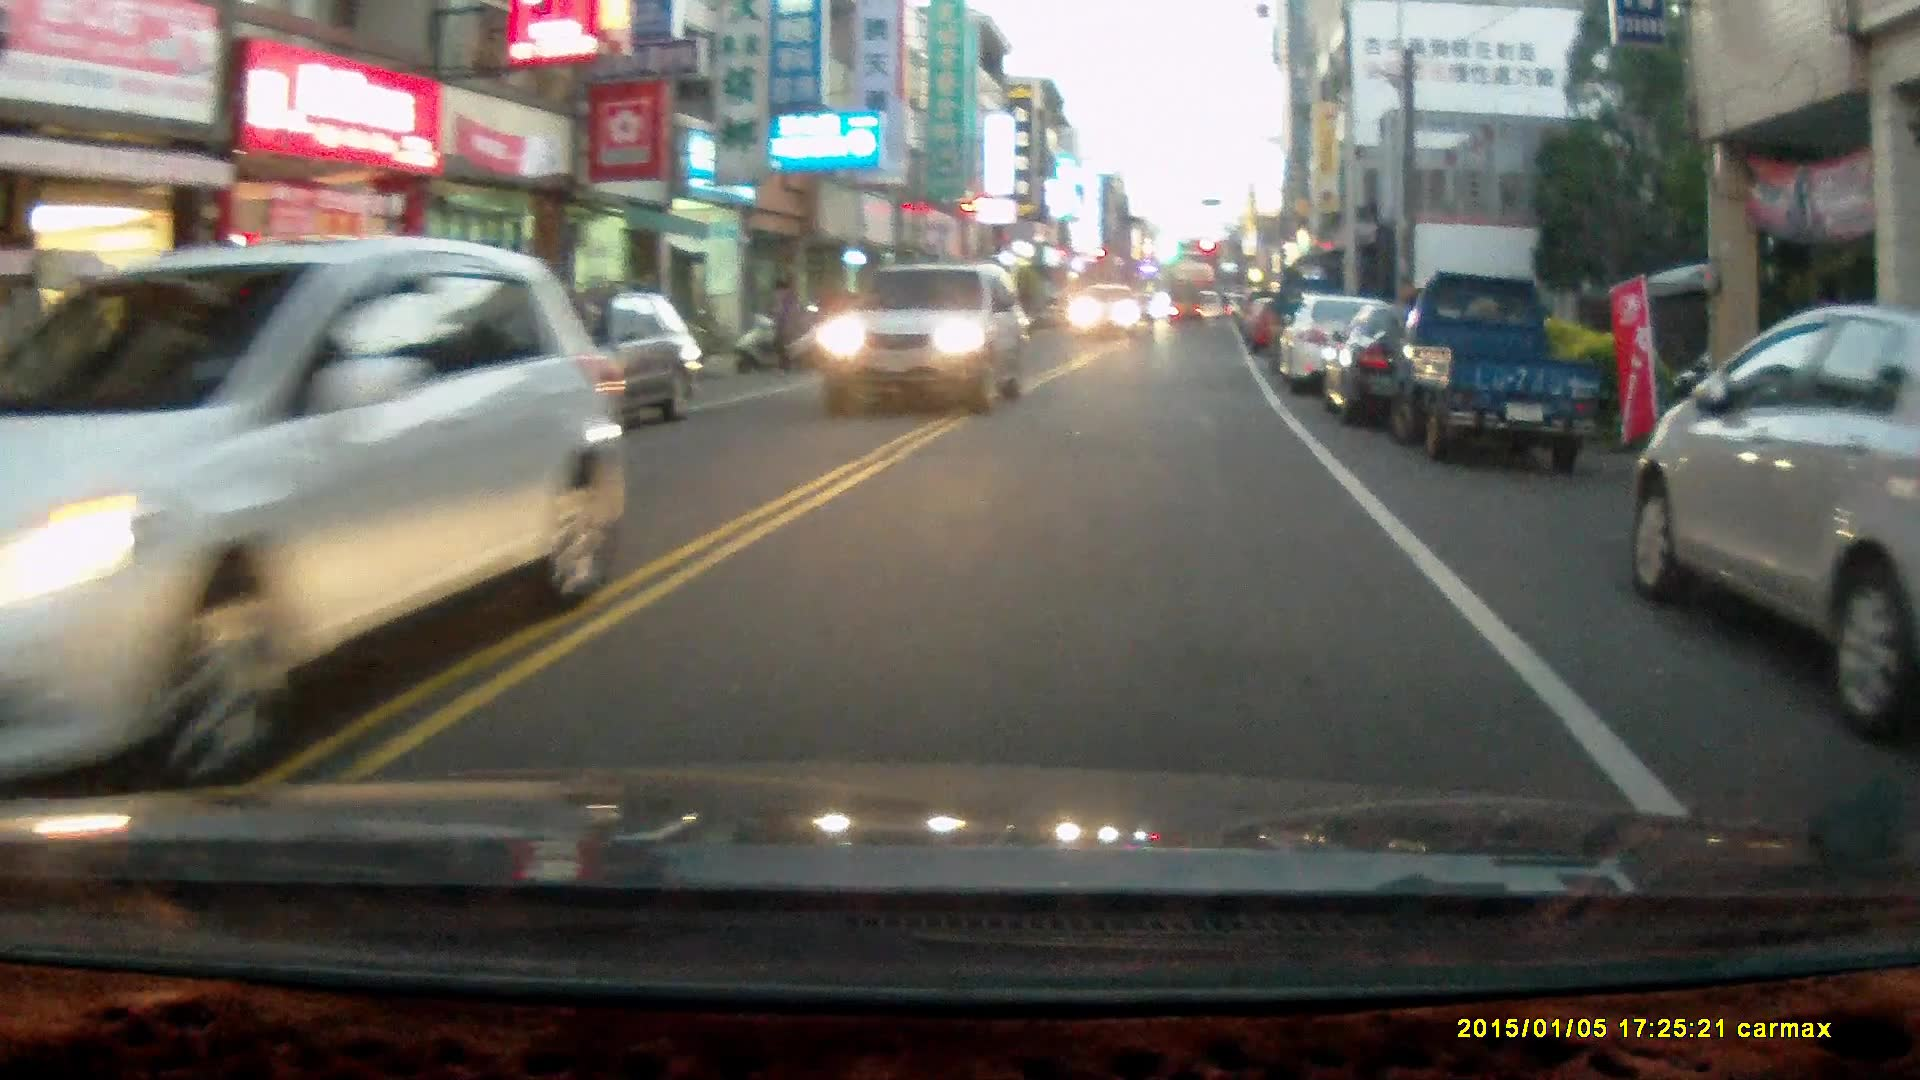pedestrian: (771, 281, 797, 372)
vehicle: (1, 239, 631, 804), (1623, 307, 1920, 710), (1386, 269, 1613, 478), (437, 296, 698, 453), (813, 269, 1030, 423), (1321, 296, 1521, 432), (1272, 292, 1425, 401), (1069, 285, 1151, 347)
